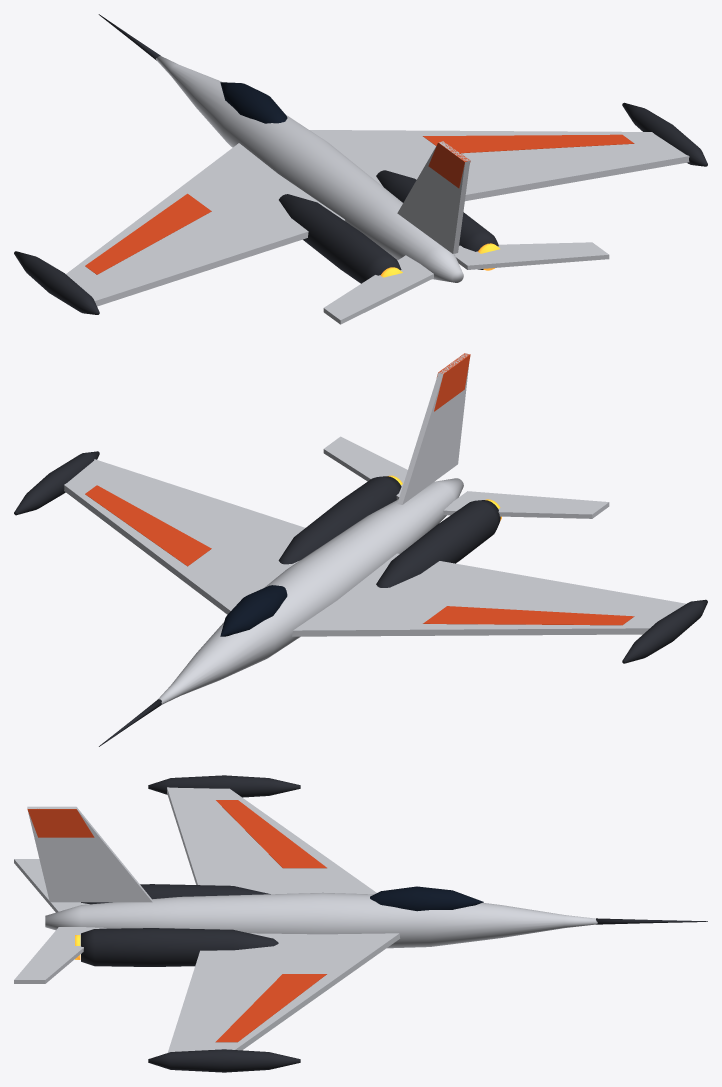
3 renders of one model, top to bottom at view 1: azimuth 30°, elevation 25°; view 2: azimuth 150°, elevation 25°; view 3: azimuth 270°, elevation 25°, orthographic. The views are drawn at different scales.
Visible parts, largest first — view 1: Wing_L, Fuselage, Wing_R, Engine_L, Fin, Stabilizer_R, Stabilizer_L, WingStripe_L, WingStripe_R, TipTank_L, Canopy, TipTank_R (+2 smaller); view 2: Wing_L, Fuselage, Wing_R, Engine_L, Fin, Engine_R, WingStripe_L, WingStripe_R, Stabilizer_L, TipTank_L, Stabilizer_R, Canopy (+2 smaller); view 3: Fuselage, Wing_R, Wing_L, Fin, Engine_R, TipTank_R, WingStripe_L, WingStripe_R, Stabilizer_R, TipTank_L, Canopy, FinStripe (+2 smaller).
Part boxes in pixels (box(x1,y1,x2,y2)): Wing_L: box(66, 143, 345, 306); Fuselage: box(156, 56, 463, 282); Wing_R: box(309, 130, 689, 201); Engine_L: box(279, 194, 401, 283); Fin: box(397, 141, 469, 253); Stabilizer_R: box(454, 242, 609, 269); Stabilizer_L: box(323, 255, 433, 324); WingStripe_L: box(85, 193, 211, 274); WingStripe_R: box(423, 134, 634, 153); TipTank_L: box(14, 251, 99, 314); Canopy: box(220, 82, 287, 123); TipTank_R: box(622, 102, 707, 166); Wing_L: box(292, 553, 686, 636); Fuselage: box(158, 478, 463, 704); Wing_R: box(64, 459, 304, 614); Engine_L: box(376, 500, 500, 587); Fin: box(397, 353, 469, 504); Engine_R: box(278, 476, 401, 564); WingStripe_L: box(423, 606, 634, 625); WingStripe_R: box(85, 485, 211, 566); Stabilizer_L: box(443, 491, 609, 518); TipTank_L: box(622, 599, 707, 663); Stabilizer_R: box(323, 436, 407, 499); Canopy: box(220, 585, 287, 636); Fuselage: box(45, 892, 597, 948); Wing_R: box(167, 933, 400, 1052); Wing_L: box(167, 787, 376, 894); Fin: box(27, 806, 152, 902); Engine_R: box(81, 928, 278, 966); TipTank_R: box(148, 1049, 300, 1072); WingStripe_L: box(216, 800, 326, 868); WingStripe_R: box(215, 974, 326, 1042); Stabilizer_R: box(14, 927, 106, 983); TipTank_L: box(148, 775, 300, 797); Canopy: box(370, 886, 483, 911); FinStripe: box(27, 809, 94, 837).
Size of the model in its own units: 7.5 by 1.71 by 7.75.
